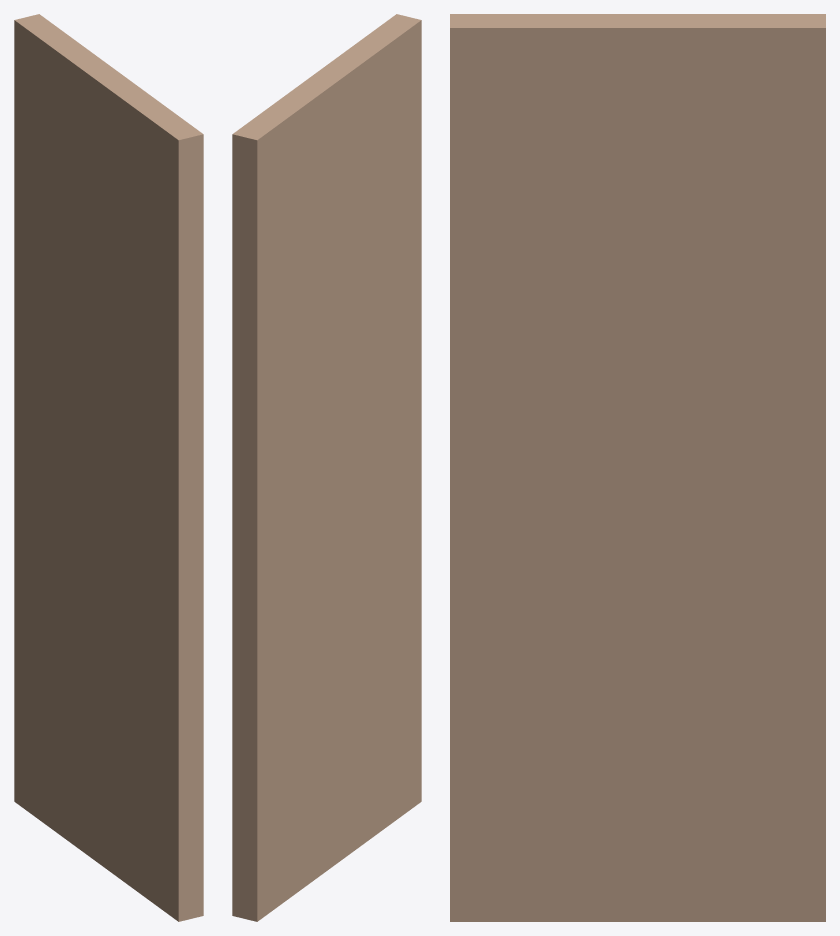
File: interior-door.glb
3 renders of one model, left to right at view 1: azimuth 30°, elevation 25°; view 2: azimuth 150°, elevation 25°; view 3: azimuth 270°, elevation 25°, orthographic. The views are drawn at different scales.
Bounding box in the file's own units: 7 × 210 × 80.
